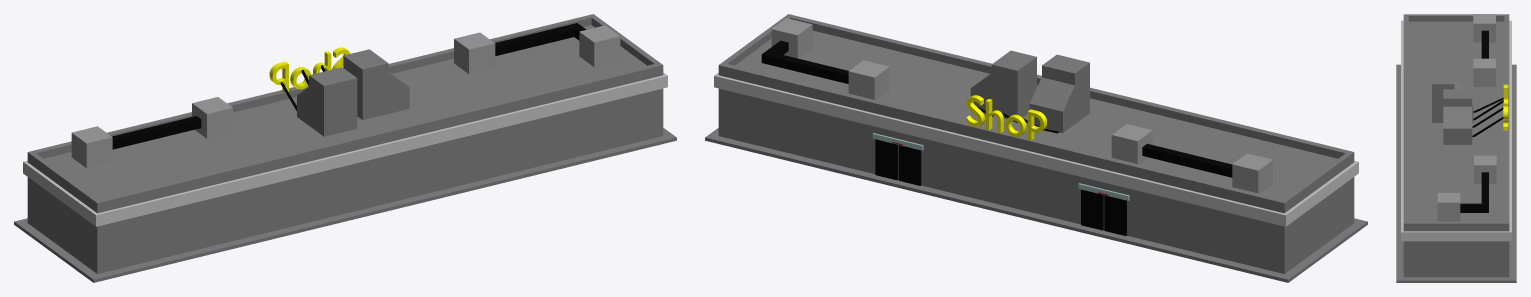
The model's file is Shop.fbx.
3 views of the same model, side by side, from view 1: azimuth 30°, elevation 25°; view 2: azimuth 150°, elevation 25°; view 3: azimuth 270°, elevation 25° (orthographic). The views are drawn at different scales.
Parts seen in each view (by area): view 1: Shop; view 2: Shop; view 3: Shop.
Boxes of the visible parts, x1,y1,x2,y2 form: Shop: (14, 14, 676, 282); Shop: (705, 14, 1367, 282); Shop: (1396, 14, 1516, 282).
Size of the model in its own units: 4479 by 862 by 1058.
